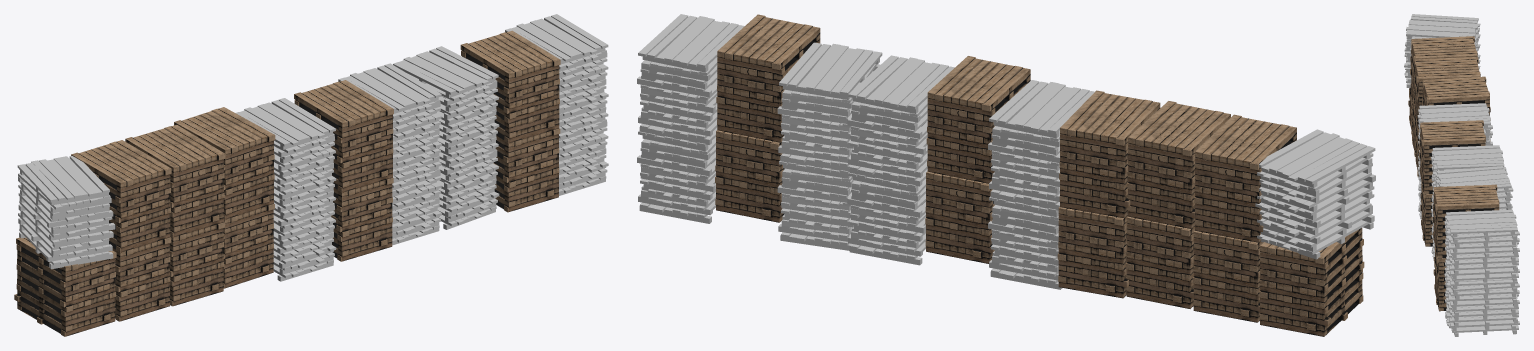
The model's file is Bordstabel_Wall_LOD.FBX.
3 views of the same model, side by side, from view 1: azimuth 30°, elevation 25°; view 2: azimuth 150°, elevation 25°; view 3: azimuth 270°, elevation 25° (orthographic). The views are drawn at different scales.
Visible parts, largest first — view 1: Bordstabel_Wall_LOD0; view 2: Bordstabel_Wall_LOD0; view 3: Bordstabel_Wall_LOD0.
Boxes of the visible parts, x1=… form: Bordstabel_Wall_LOD0: x1=14, y1=14, x2=608, y2=336; Bordstabel_Wall_LOD0: x1=637, y1=14, x2=1375, y2=336; Bordstabel_Wall_LOD0: x1=1404, y1=14, x2=1519, y2=336.
Size of what is drawn, in the model's own units: 3296 by 782 by 751.
